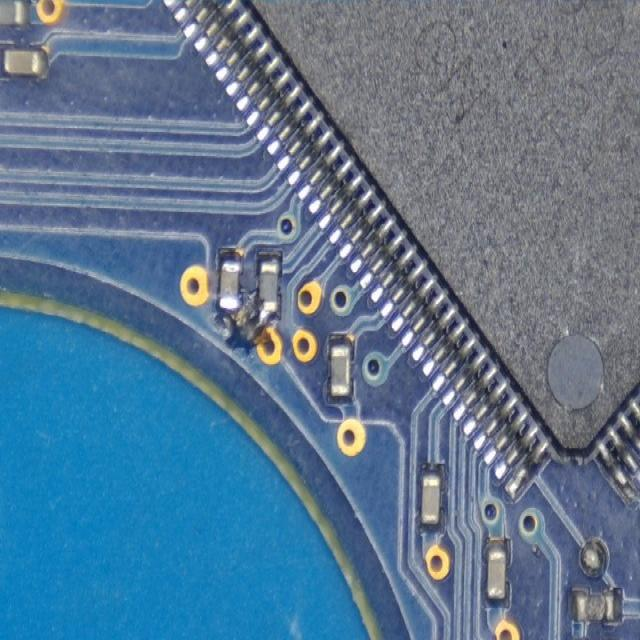Short_circuit: (220, 288, 275, 324)
